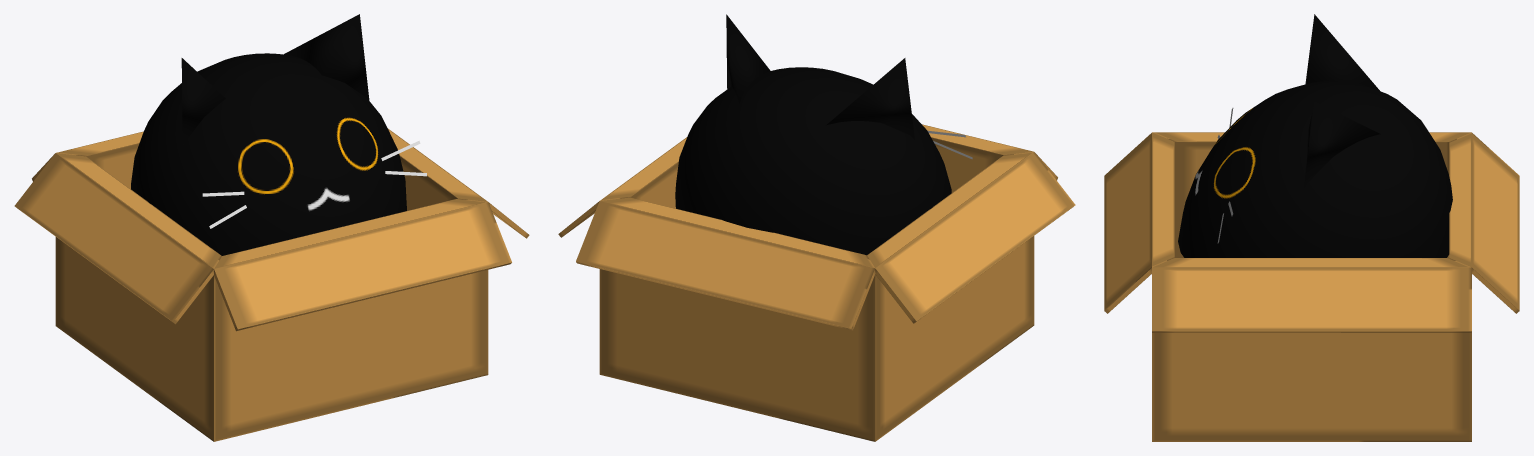
File: neko.glb
3 renders of one model, left to right at view 1: azimuth 30°, elevation 25°; view 2: azimuth 150°, elevation 25°; view 3: azimuth 270°, elevation 25°, orthographic.
Visible parts, largest first — view 1: Neko; view 2: Neko; view 3: Neko.
Part boxes in pixels (x1,y1,x2,y2): Neko: [14, 14, 529, 441]; Neko: [558, 14, 1075, 441]; Neko: [1104, 14, 1519, 441].
Size of the model in its own units: 2.6 by 2.19 by 2.6.
Materials: 1 (1 with a texture image).
